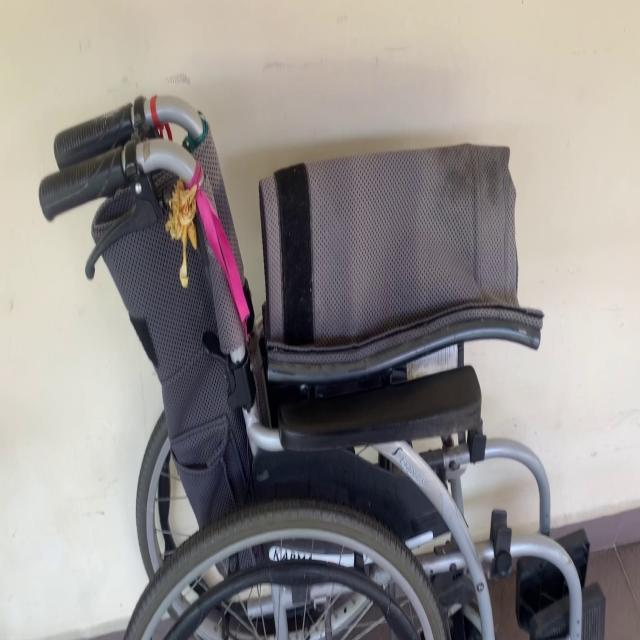wheelchair: (39, 77, 618, 640)
